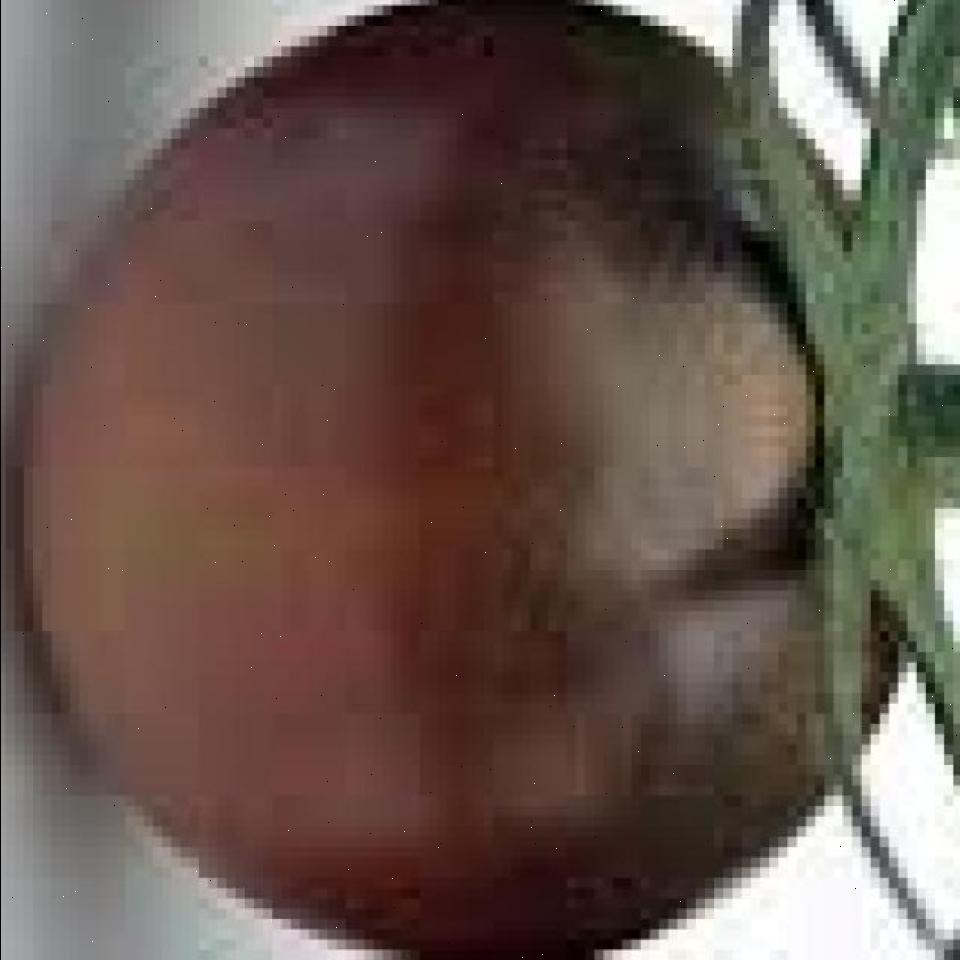Healthy: (0, 0, 950, 950)
